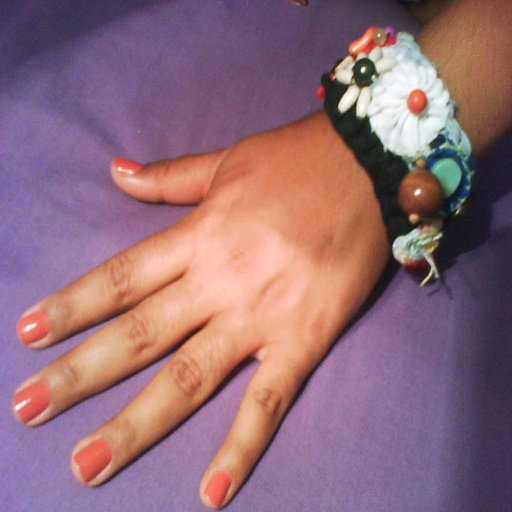hand: (12, 107, 390, 509)
